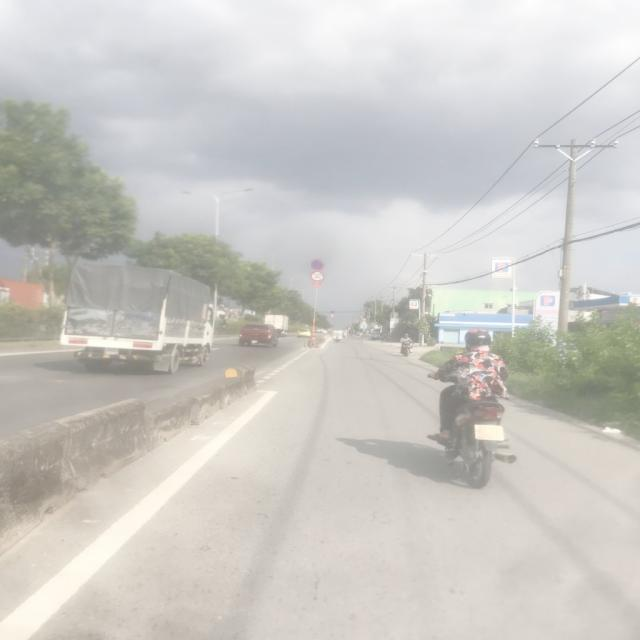cam_dung_xe_va_do_xe: (312, 259, 326, 270), (330, 310, 334, 314)
cam_o_to_tai_va_xe_khach: (362, 318, 367, 321)
cam_xe_2_banh_va_xe_3_banh_co_dong_co: (310, 271, 325, 282), (330, 314, 334, 317)
khac: (360, 324, 368, 328), (362, 321, 367, 325)
